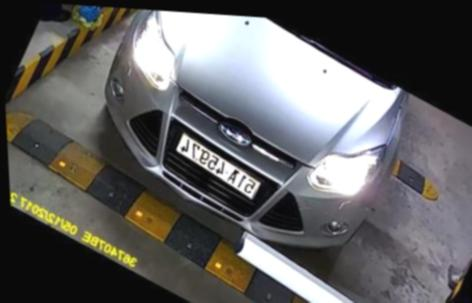License_Plate: (169, 133, 264, 195)
